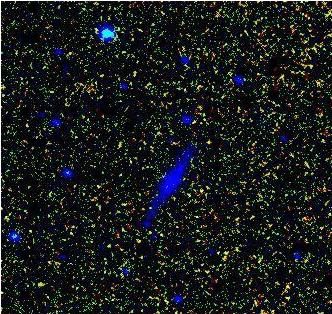star: (192, 126, 222, 156)
